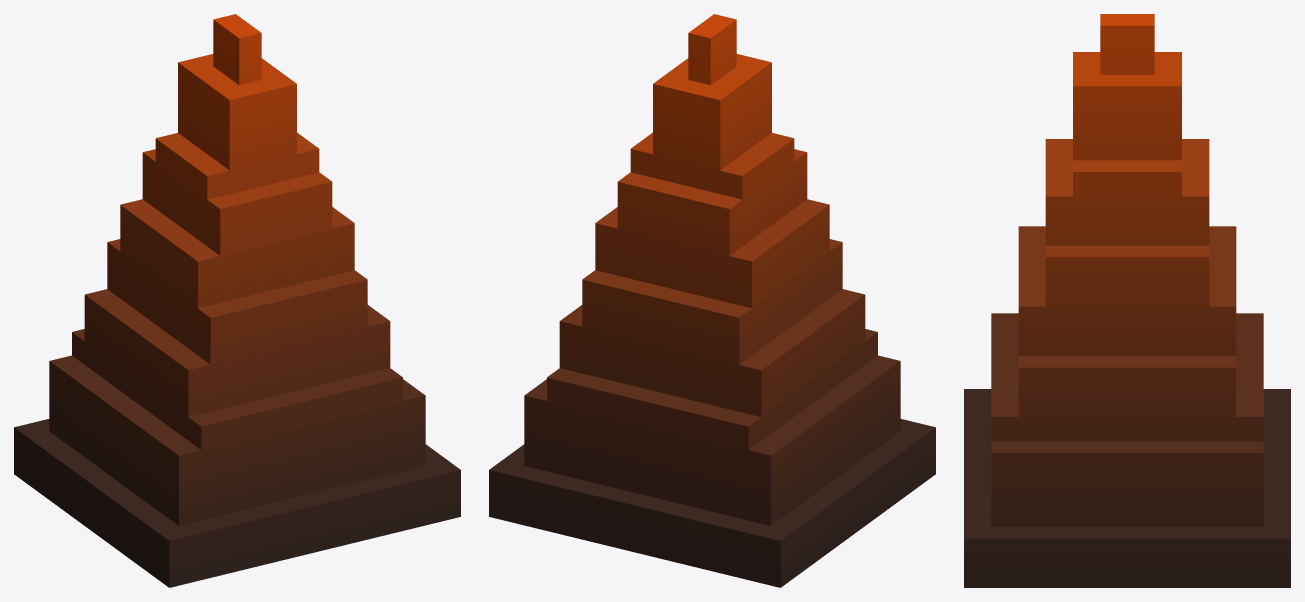
The model's file is Obstacle_0.fbx.
3 views of the same model, side by side, from view 1: azimuth 30°, elevation 25°; view 2: azimuth 150°, elevation 25°; view 3: azimuth 270°, elevation 25° (orthographic). The views are drawn at different scales.
Parts seen in each view (by area): view 1: Obstacle_0; view 2: Obstacle_0; view 3: Obstacle_0.
Boxes of the visible parts, x1,y1,x2,y2 form: Obstacle_0: (14,14,460,587); Obstacle_0: (489,14,935,587); Obstacle_0: (964,14,1290,587).
Bounding box in the file's own units: 13 × 20 × 12.
Materials: 1 (1 with a texture image).
